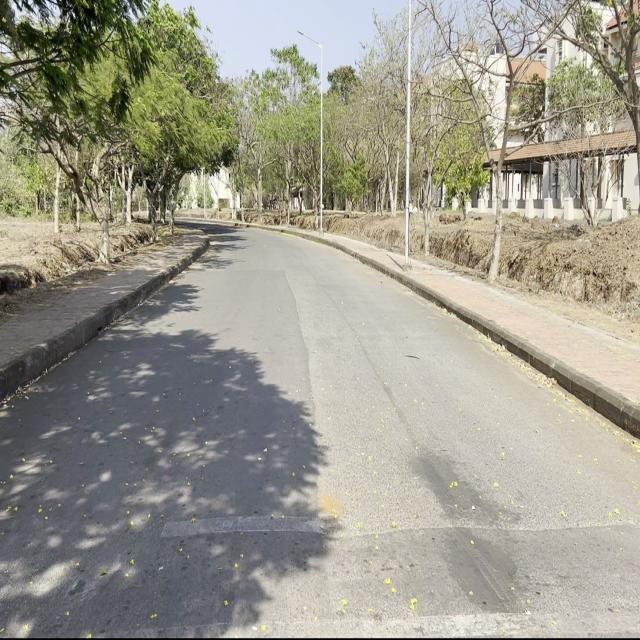Road: (3, 221, 636, 635)
